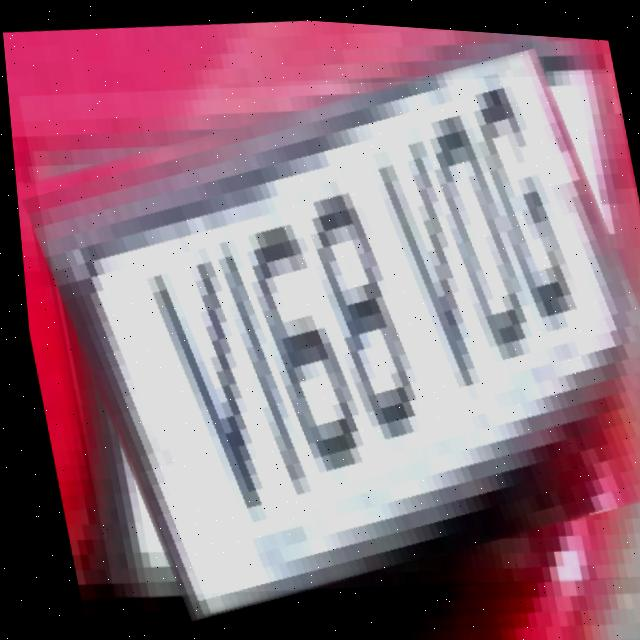LicensePlate: (12, 33, 640, 627)
